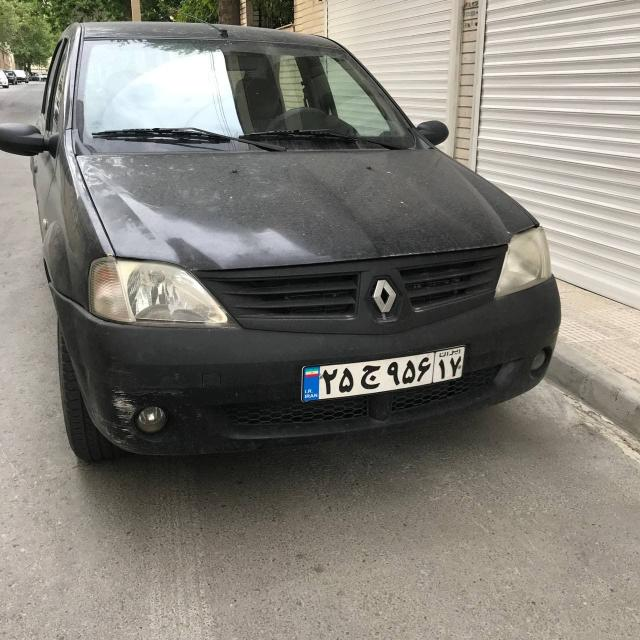Plates: (297, 342, 469, 402)
